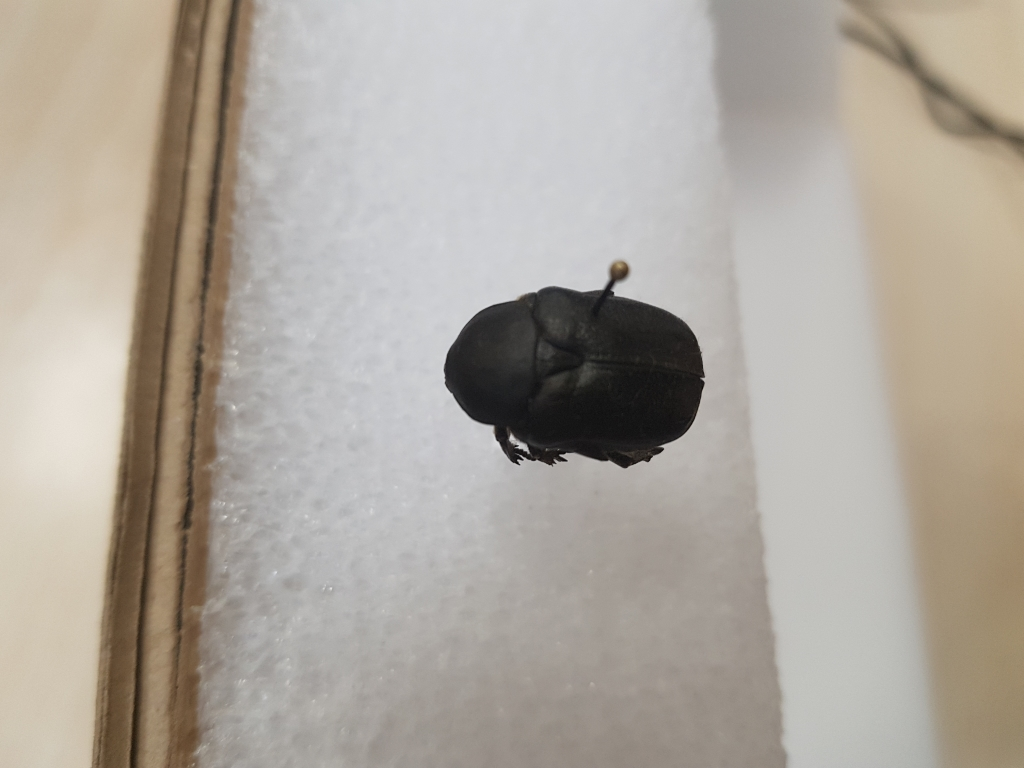Protaetia_vidua: (440, 275, 725, 484)
